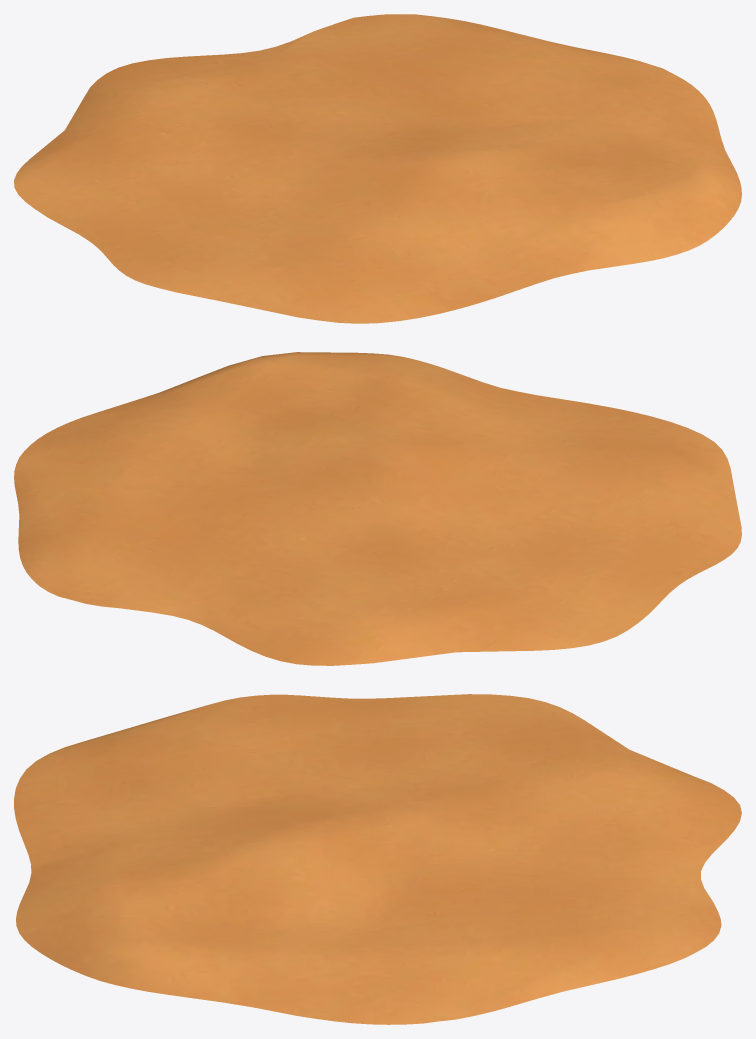
3 renders of one model, top to bottom at view 1: azimuth 30°, elevation 25°; view 2: azimuth 150°, elevation 25°; view 3: azimuth 270°, elevation 25°, orthographic. The views are drawn at different scales.
Visible parts, largest first — view 1: SM_Vault_Sand_Pile_01_V2_LOD0; view 2: SM_Vault_Sand_Pile_01_V2_LOD0; view 3: SM_Vault_Sand_Pile_01_V2_LOD0.
Boxes of the visible parts, x1=… form: SM_Vault_Sand_Pile_01_V2_LOD0: x1=14, y1=14, x2=741, y2=323; SM_Vault_Sand_Pile_01_V2_LOD0: x1=14, y1=352, x2=741, y2=665; SM_Vault_Sand_Pile_01_V2_LOD0: x1=14, y1=694, x2=741, y2=1024.
Size of the model in its own units: 2.54 by 0.1217 by 2.37.
1 material, 1 textured.
